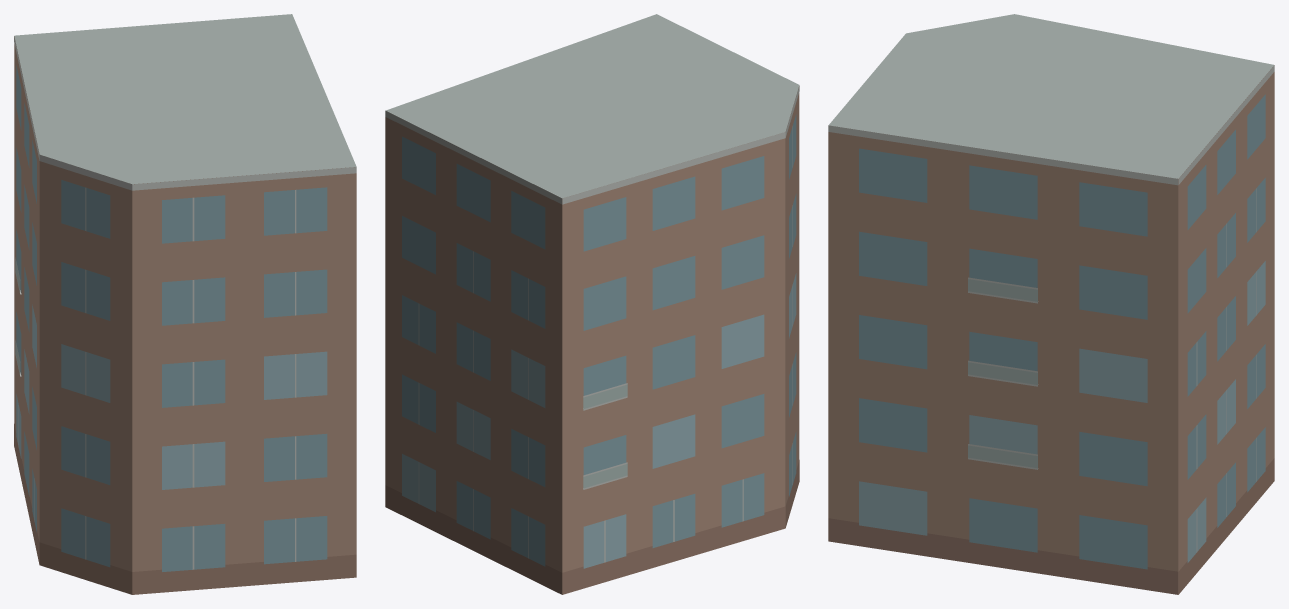
File: survey-upis-33043786.glb
The picture shows the model from 3 angles, left to right: view 1: azimuth 30°, elevation 25°; view 2: azimuth 150°, elevation 25°; view 3: azimuth 270°, elevation 25°; orthographic projection. The views are drawn at different scales.
Parts seen in each view (by area): view 1: survey-upis-33043786.tmp; view 2: survey-upis-33043786.tmp; view 3: survey-upis-33043786.tmp.
Boxes of the visible parts, bbox=[...] form: survey-upis-33043786.tmp: bbox=[14, 14, 356, 594]; survey-upis-33043786.tmp: bbox=[385, 14, 799, 594]; survey-upis-33043786.tmp: bbox=[828, 14, 1274, 594].
Size of the model in its own units: 13.23 by 15.55 by 15.12.
